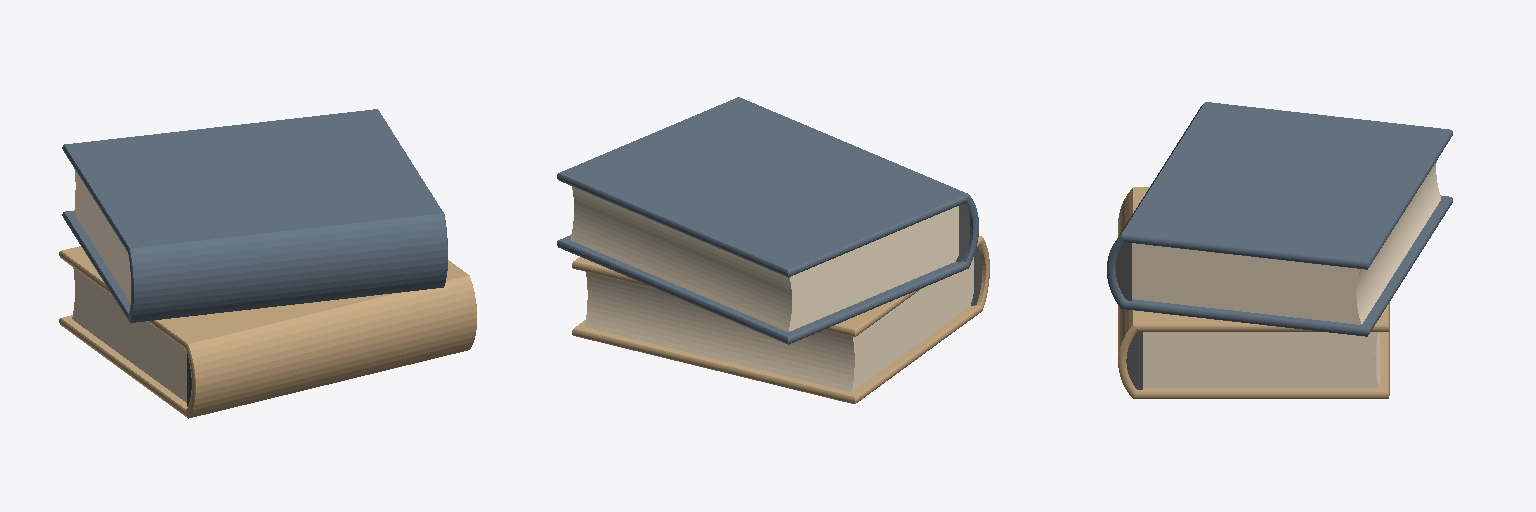
Rendered from book.obj.
The picture shows the model from 3 angles: view 1: azimuth 30°, elevation 25°; view 2: azimuth 150°, elevation 25°; view 3: azimuth 270°, elevation 25°; orthographic projection.
Visible parts, largest first — view 1: Mesh2 book_1_1 Model, Mesh1 book1 Model; view 2: Mesh2 book_1_1 Model, Mesh1 book1 Model; view 3: Mesh2 book_1_1 Model, Mesh1 book1 Model.
Boxes of the visible parts, x1=… form: Mesh2 book_1_1 Model: x1=62, y1=109, x2=447, y2=322; Mesh1 book1 Model: x1=59, y1=246, x2=476, y2=418; Mesh2 book_1_1 Model: x1=557, y1=97, x2=978, y2=344; Mesh1 book1 Model: x1=572, y1=236, x2=989, y2=403; Mesh2 book_1_1 Model: x1=1107, y1=102, x2=1452, y2=336; Mesh1 book1 Model: x1=1118, y1=187, x2=1389, y2=398.
Size of the model in its own units: 14.83 by 6.32 by 13.33.